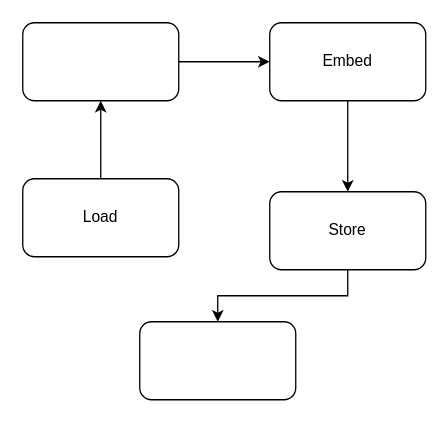
This 448x422 diagram has some shape labels left out. Here are the shapes that lost their labels. From the top down, the box of each, then its label:
(21, 21, 179, 101): Chunk
(138, 320, 296, 400): Retrieve
